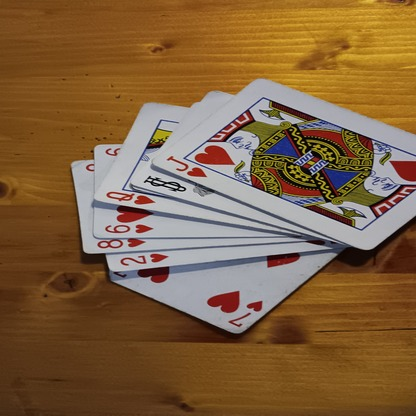2h: (118, 253, 169, 267)
6h: (104, 222, 152, 238)
7h: (227, 300, 264, 331)
8h: (96, 237, 143, 251)
Jh: (163, 155, 205, 179)
Qh: (107, 189, 155, 208)
